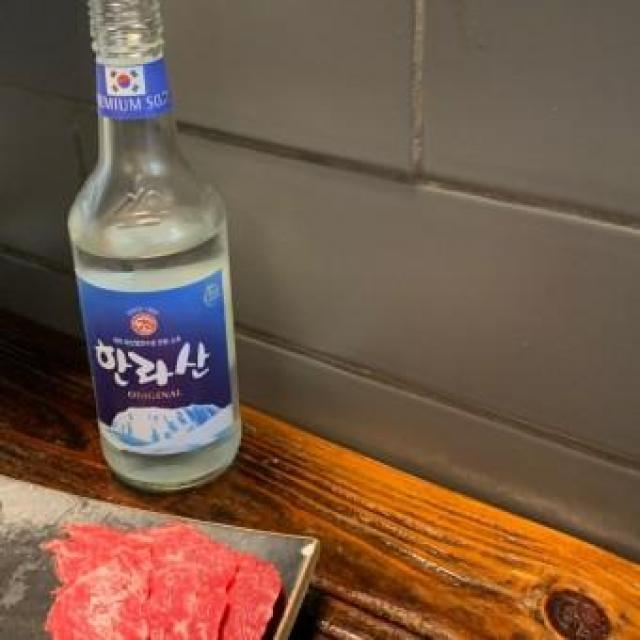soju-bottle: (62, 1, 243, 494)
